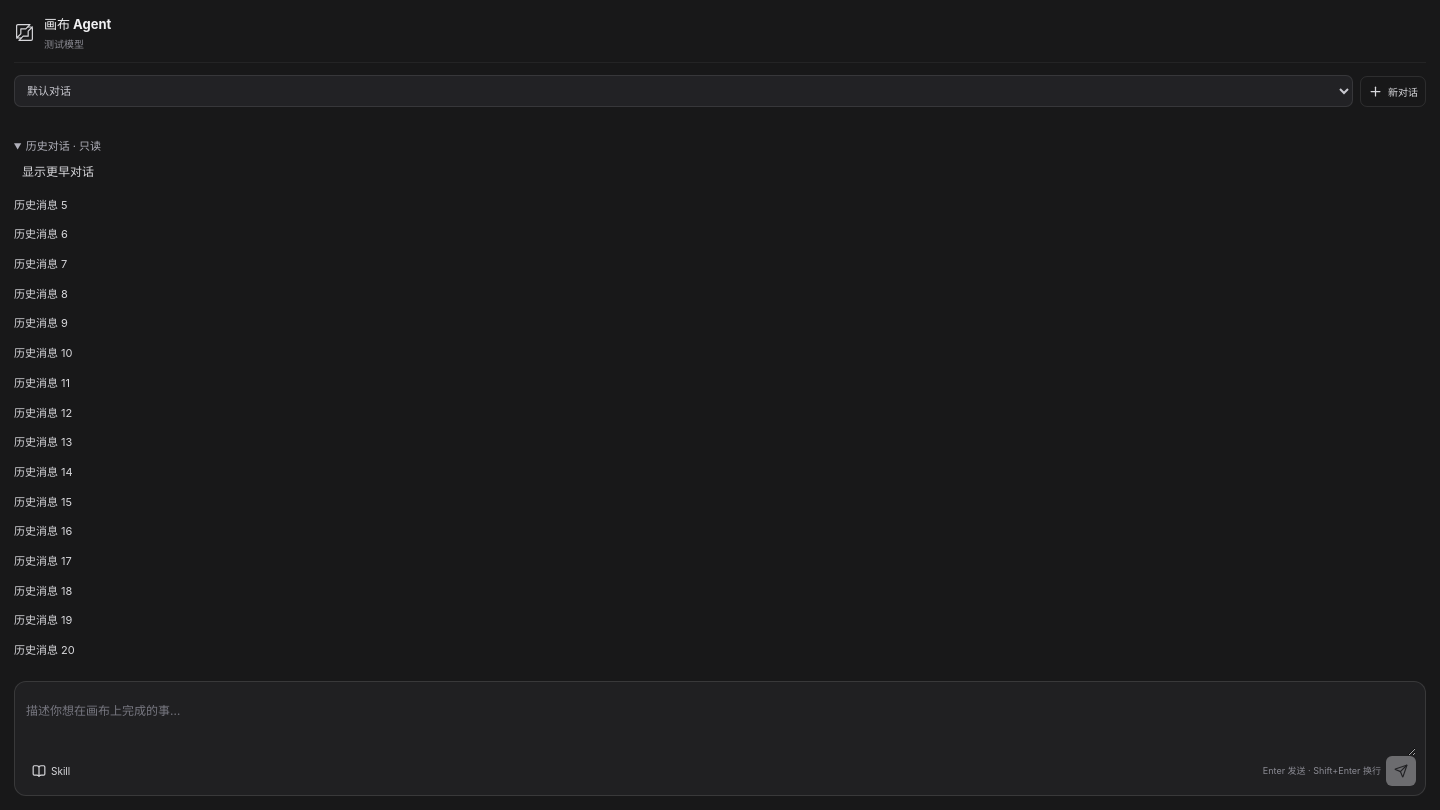
Scenario: Agent reference ordering and pending uploads › keeps older legacy messages accessible on demand
Expected: the text "历史消息 0" is not shown
Click the button "显示更早对话": x=58, y=170 [14,156,102,185]
(page scrolled)
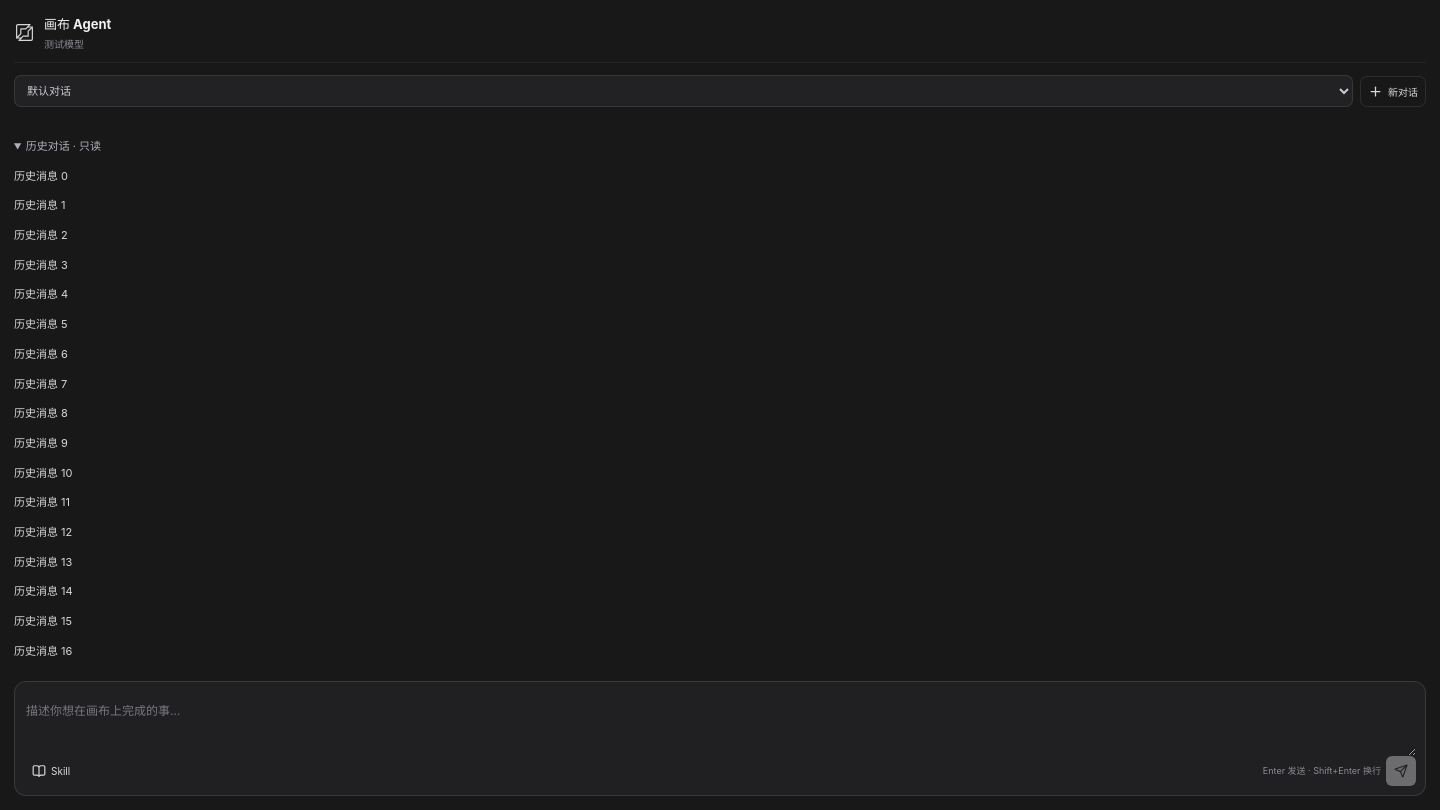
Expected: the text "历史消息 0" is shown, [14,169,68,183]
